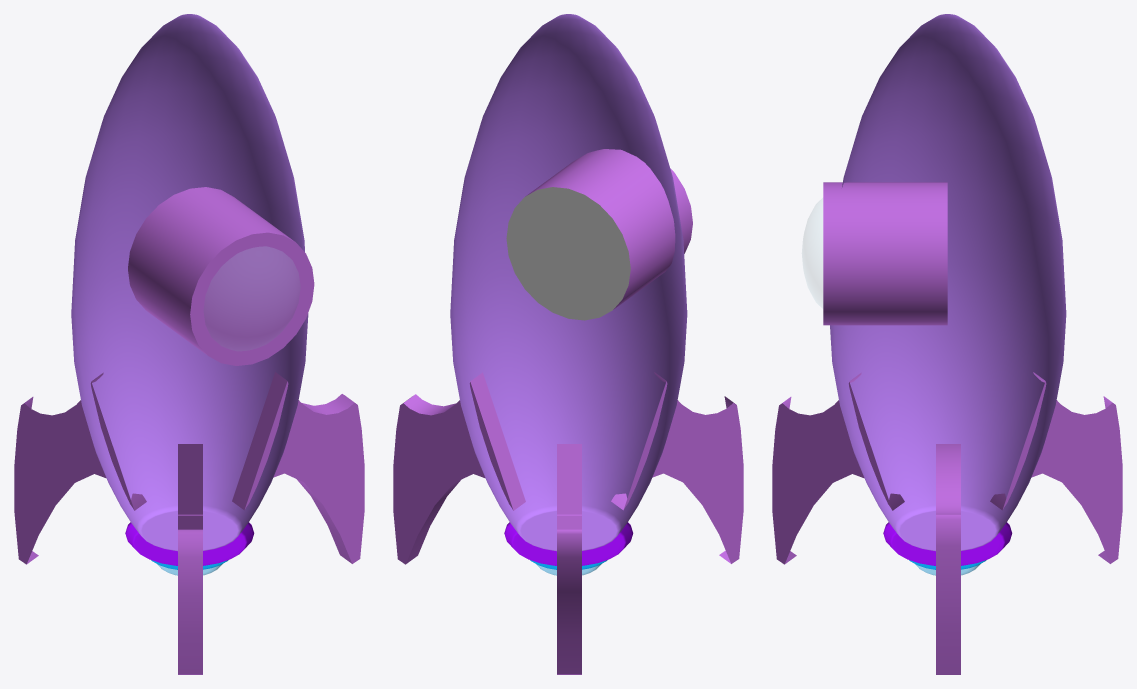
File: vlr.gltf
3 views of the same model, side by side, from view 1: azimuth 30°, elevation 25°; view 2: azimuth 150°, elevation 25°; view 3: azimuth 270°, elevation 25° (orthographic).
Parts seen in each view (by area): view 1: Rotazione, Tappo_2_3, Estrusione.1, Tappo_1_1, Tappo_2, Sfera, Estrusione.1.1, Estrusione.1.3, Rotazione.1; view 2: Rotazione, Tappo_1_3, Estrusione.1, Tappo_1, Tappo_2_2, Estrusione.1.2, Estrusione.1.3, Rotazione.1; view 3: Rotazione, Estrusione.1, Tappo_1_2, Tappo_2_1, Estrusione.1.3, Rotazione.1, Sfera.
Part boxes in pixels (x1=…): Rotazione: x1=71, y1=14, x2=308, y2=551; Tappo_2_3: x1=190, y1=232, x2=314, y2=365; Estrusione.1: x1=128, y1=187, x2=294, y2=354; Tappo_1_1: x1=14, y1=382, x2=134, y2=564; Tappo_2: x1=245, y1=381, x2=364, y2=563; Sfera: x1=204, y1=247, x2=299, y2=350; Estrusione.1.1: x1=178, y1=444, x2=202, y2=674; Estrusione.1.3: x1=232, y1=372, x2=355, y2=563; Rotazione.1: x1=125, y1=522, x2=254, y2=565; Rotazione: x1=450, y1=14, x2=687, y2=551; Tappo_1_3: x1=506, y1=187, x2=630, y2=320; Estrusione.1: x1=525, y1=149, x2=692, y2=309; Tappo_1: x1=393, y1=382, x2=513, y2=564; Tappo_2_2: x1=624, y1=381, x2=743, y2=563; Estrusione.1.2: x1=557, y1=444, x2=581, y2=674; Estrusione.1.3: x1=403, y1=372, x2=525, y2=564; Rotazione.1: x1=504, y1=522, x2=633, y2=565; Rotazione: x1=830, y1=14, x2=1066, y2=551; Estrusione.1: x1=823, y1=182, x2=947, y2=325; Tappo_1_2: x1=772, y1=382, x2=892, y2=564; Tappo_2_1: x1=1003, y1=381, x2=1122, y2=563; Estrusione.1.3: x1=936, y1=444, x2=960, y2=674; Rotazione.1: x1=883, y1=522, x2=1012, y2=565; Sfera: x1=802, y1=199, x2=822, y2=307.
Size of what is drawn, in the model's own units: 25.19 by 51.6 by 28.14.
